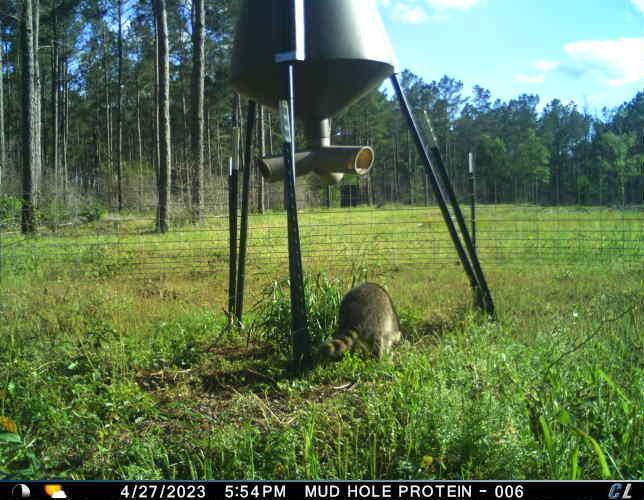Raccoon: (320, 279, 407, 361)
